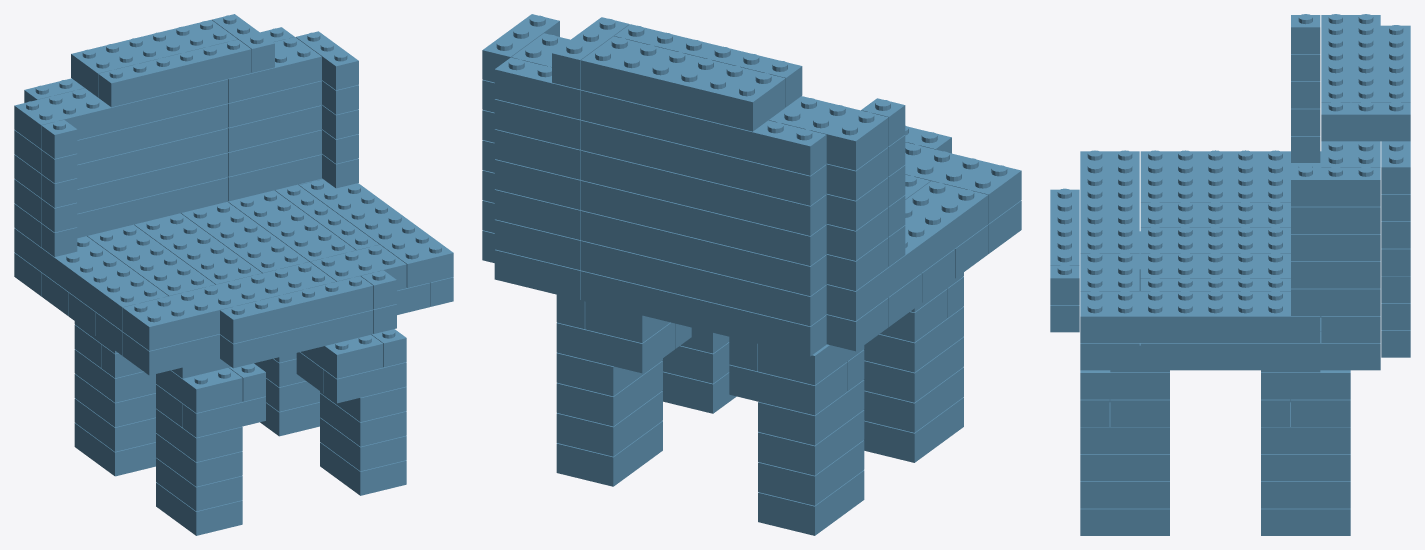
File: 151_chair_L1.glb
3 renders of one model, left to right at view 1: azimuth 30°, elevation 25°; view 2: azimuth 150°, elevation 25°; view 3: azimuth 270°, elevation 25°, orthographic. The views are drawn at different scales.
Size of the model in its own units: 12.98 by 15.13 by 11.98.
